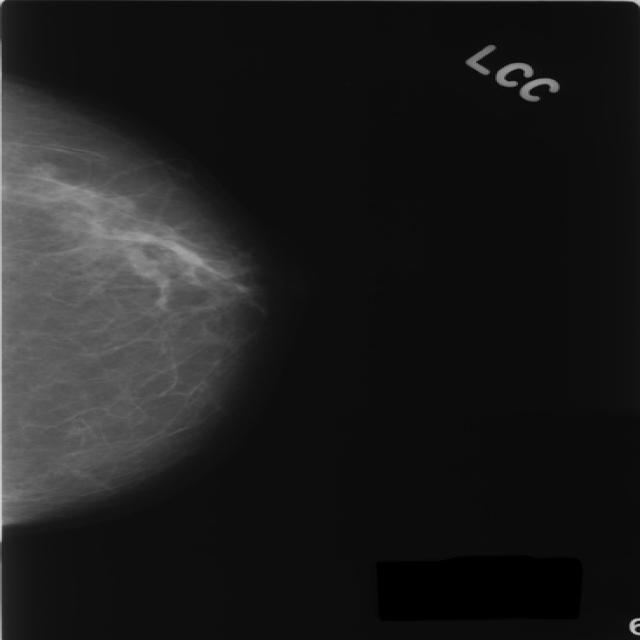tumour: (28, 160, 57, 178)
